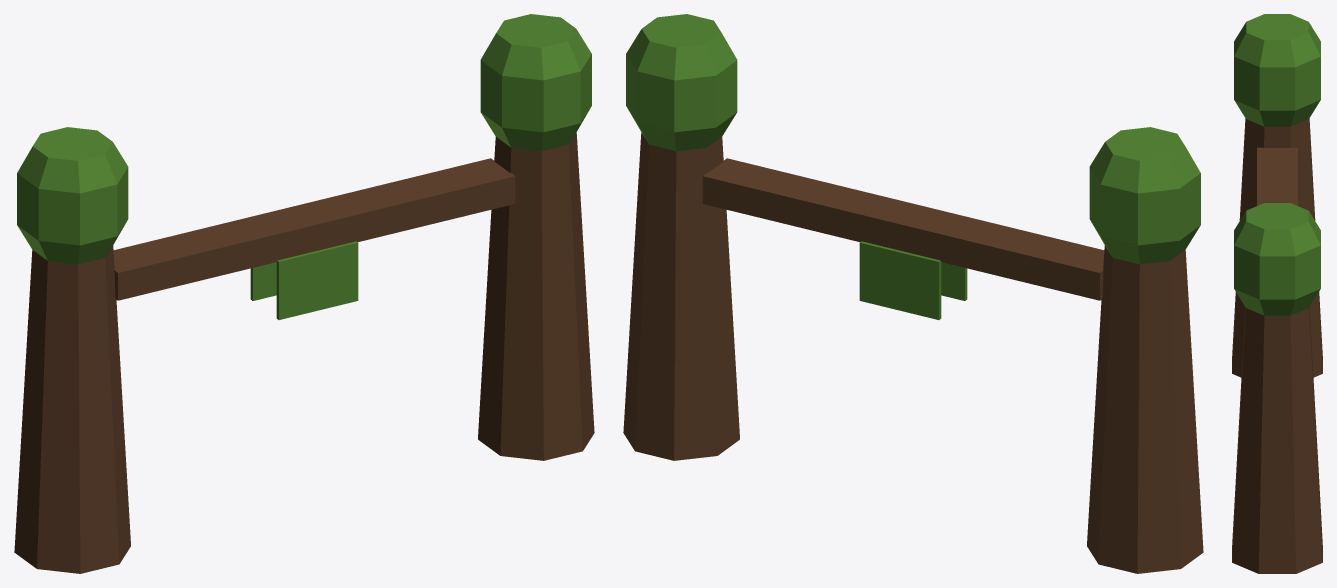
Rendered from elf_gate_broken.glb.
The picture shows the model from 3 angles, left to right: view 1: azimuth 30°, elevation 25°; view 2: azimuth 150°, elevation 25°; view 3: azimuth 270°, elevation 25°; orthographic projection. The views are drawn at different scales.
Visible parts, largest first — view 1: elf_gate_piece1, elf_gate_piece7, elf_gate_piece13, elf_gate_piece3, elf_gate_piece4, elf_gate_piece8, elf_gate_piece5, elf_gate_piece0, elf_gate_piece12, elf_gate_piece10, elf_gate_piece9, elf_gate_piece2 (+1 smaller); view 2: elf_gate_piece7, elf_gate_piece1, elf_gate_piece3, elf_gate_piece8, elf_gate_piece6, elf_gate_piece2, elf_gate_piece5, elf_gate_piece13, elf_gate_piece0, elf_gate_piece10, elf_gate_piece12, elf_gate_piece9 (+1 smaller); view 3: elf_gate_piece1, elf_gate_piece7, elf_gate_piece3, elf_gate_piece4, elf_gate_piece5, elf_gate_piece9, elf_gate_piece2, elf_gate_piece8, elf_gate_piece6, elf_gate_piece13, elf_gate_piece11.
Part boxes in pixels (left/top/right/bottom): elf_gate_piece1: left=478, top=157, right=594, bottom=460; elf_gate_piece7: left=463, top=14, right=591, bottom=215; elf_gate_piece13: left=14, top=398, right=123, bottom=573; elf_gate_piece3: left=17, top=127, right=155, bottom=379; elf_gate_piece4: left=77, top=150, right=181, bottom=392; elf_gate_piece8: left=184, top=204, right=337, bottom=319; elf_gate_piece5: left=484, top=91, right=591, bottom=317; elf_gate_piece0: left=23, top=254, right=102, bottom=453; elf_gate_piece12: left=303, top=189, right=425, bottom=305; elf_gate_piece10: left=366, top=47, right=487, bottom=225; elf_gate_piece9: left=102, top=143, right=191, bottom=284; elf_gate_piece2: left=90, top=348, right=124, bottom=442; elf_gate_piece7: left=626, top=14, right=769, bottom=224; elf_gate_piece1: left=623, top=170, right=739, bottom=460; elf_gate_piece3: left=1037, top=130, right=1200, bottom=304; elf_gate_piece8: left=859, top=210, right=1050, bottom=319; elf_gate_piece6: left=1089, top=359, right=1172, bottom=573; elf_gate_piece2: left=1065, top=225, right=1168, bottom=460; elf_gate_piece5: left=639, top=139, right=731, bottom=331; elf_gate_piece13: left=1136, top=372, right=1203, bottom=569; elf_gate_piece0: left=1133, top=264, right=1196, bottom=430; elf_gate_piece10: left=704, top=60, right=829, bottom=234; elf_gate_piece12: left=817, top=180, right=938, bottom=278; elf_gate_piece9: left=1009, top=128, right=1142, bottom=285; elf_gate_piece1: left=1232, top=336, right=1322, bottom=573; elf_gate_piece7: left=1234, top=203, right=1320, bottom=354; elf_gate_piece3: left=1238, top=14, right=1320, bottom=201; elf_gate_piece4: left=1234, top=27, right=1277, bottom=219; elf_gate_piece5: left=1234, top=272, right=1315, bottom=413; elf_gate_piece9: left=1250, top=33, right=1297, bottom=184; elf_gate_piece2: left=1240, top=110, right=1314, bottom=220; elf_gate_piece8: left=1257, top=178, right=1297, bottom=205; elf_gate_piece6: left=1311, top=190, right=1322, bottom=377; elf_gate_piece13: left=1232, top=200, right=1314, bottom=377; elf_gate_piece11: left=1236, top=293, right=1317, bottom=335.
Size of the model in its own units: 4.21 by 2.92 by 0.7114.
